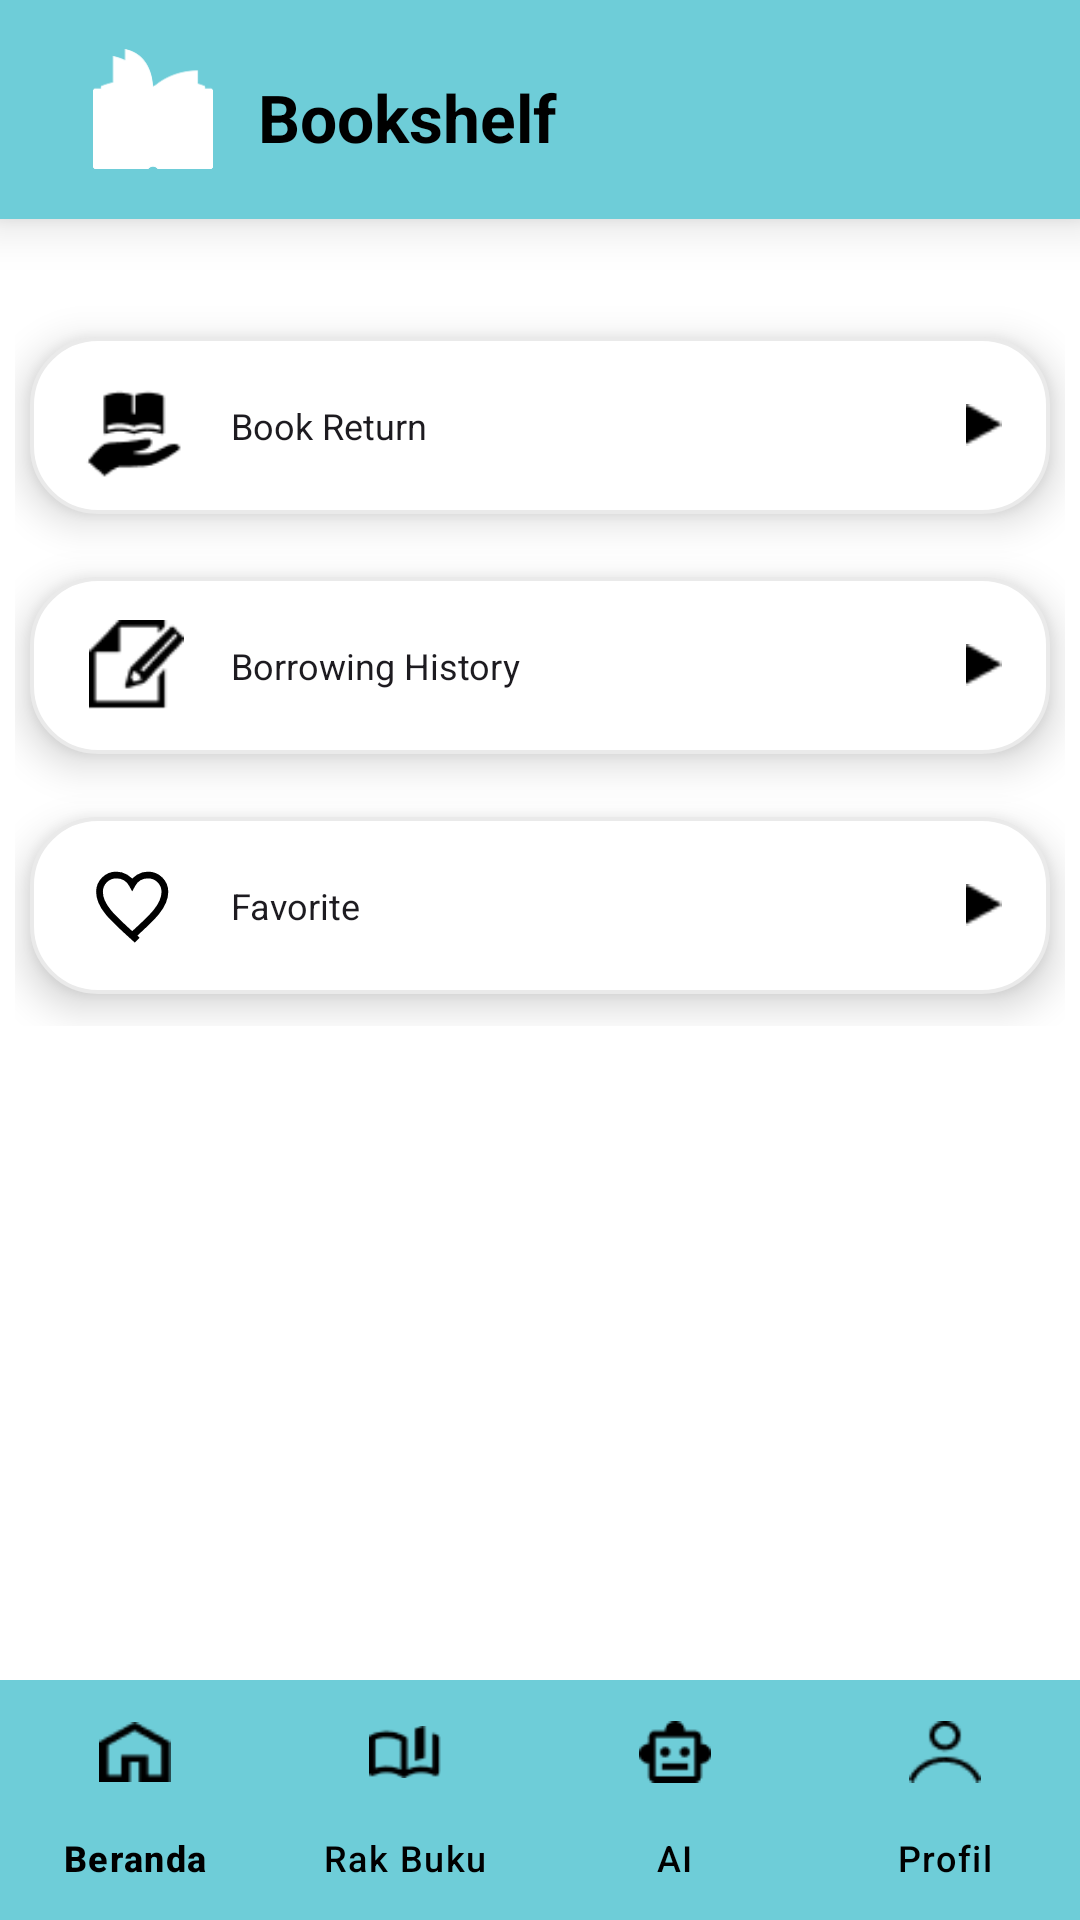

Screen size 1080 x 1920. Icon name, then its center in pixels as [x,y]:
arrow: [984,425], [984,665], [984,905]
love: [132,907]
